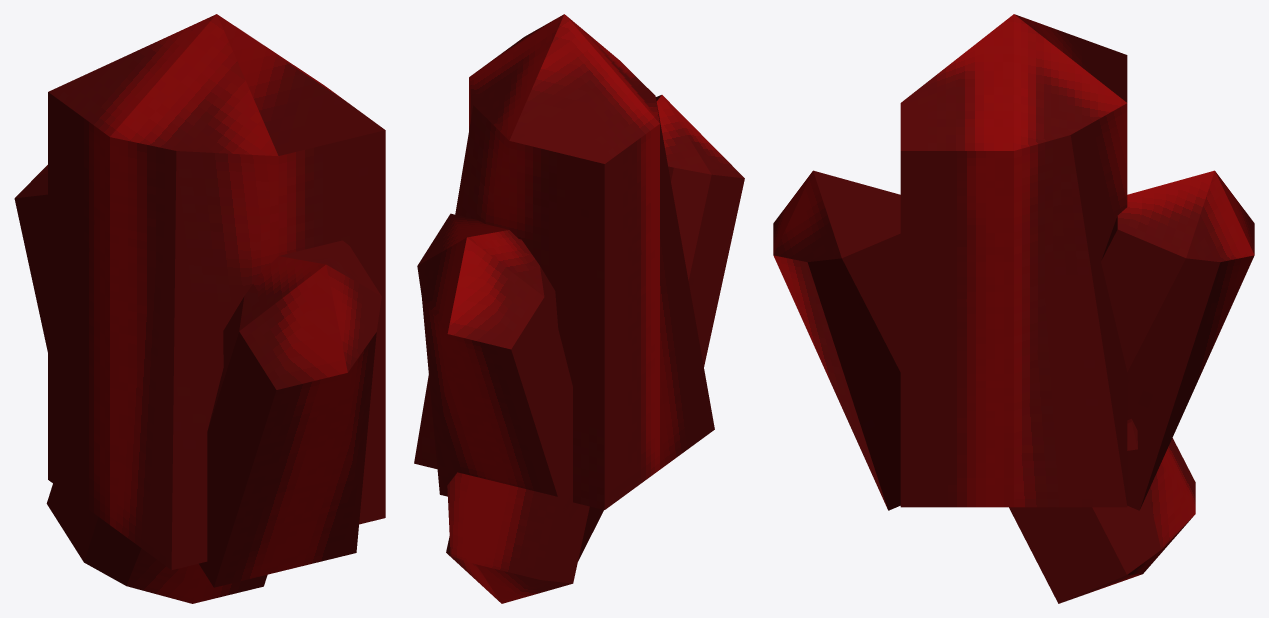
The model's file is planet_maroon.gltf.
The picture shows the model from 3 angles, left to right: view 1: azimuth 30°, elevation 25°; view 2: azimuth 150°, elevation 25°; view 3: azimuth 270°, elevation 25°; orthographic projection. The views are drawn at different scales.
Visible parts, largest first — view 1: mesh (×4); view 2: mesh (×4); view 3: mesh (×4).
Part boxes in pixels (bbox=[...]): mesh (×4): bbox=[14, 14, 385, 603]; mesh (×4): bbox=[414, 14, 744, 603]; mesh (×4): bbox=[773, 14, 1254, 603].
Bounding box in the file's own units: 0.75 × 2.04 × 1.59.
1 material, 1 textured.
